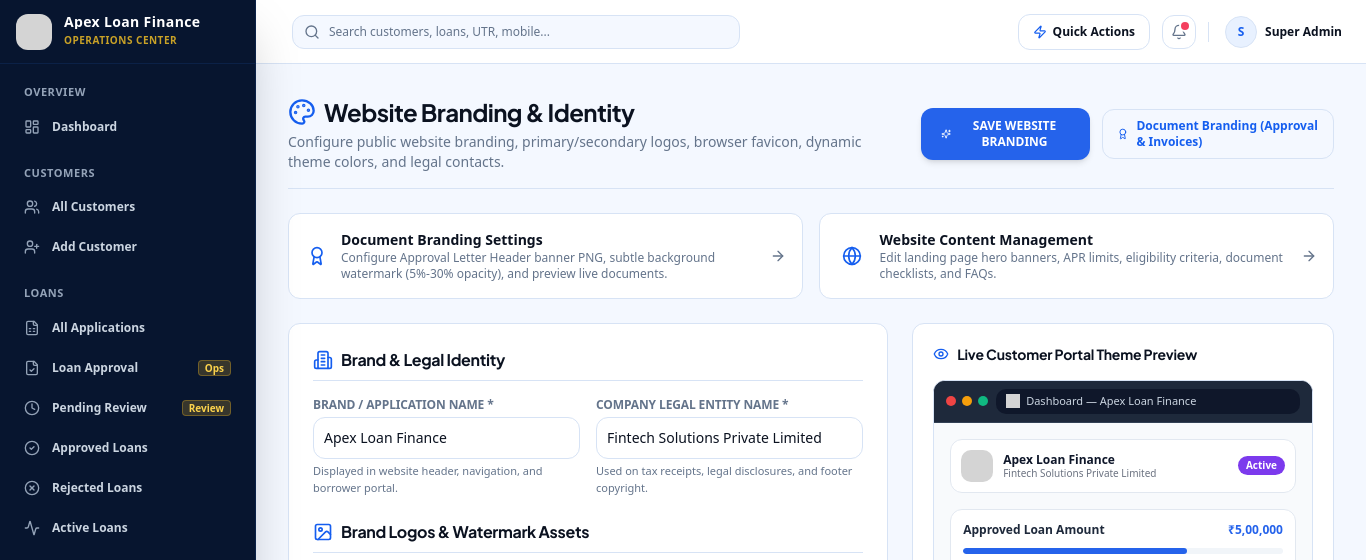
Test: Website Settings, Approval Letter & Branding E2E Integration Suite › TEST 4: Website Branding Page is streamlined and contains direct navigation links
This screenshot has width=1366, height=560.
Check: the heading "Website Branding & Identity" is shown, box [288, 97, 634, 127]
Check: the field showing "Apex Loan Finance" below "Brand / Application Name *" is shown, box [313, 417, 580, 459]
Note: Click SAVE WEBSITE BRANDING
Click the button "SAVE WEBSITE BRANDING" at {"x": 1005, "y": 134}, box [921, 108, 1090, 160]
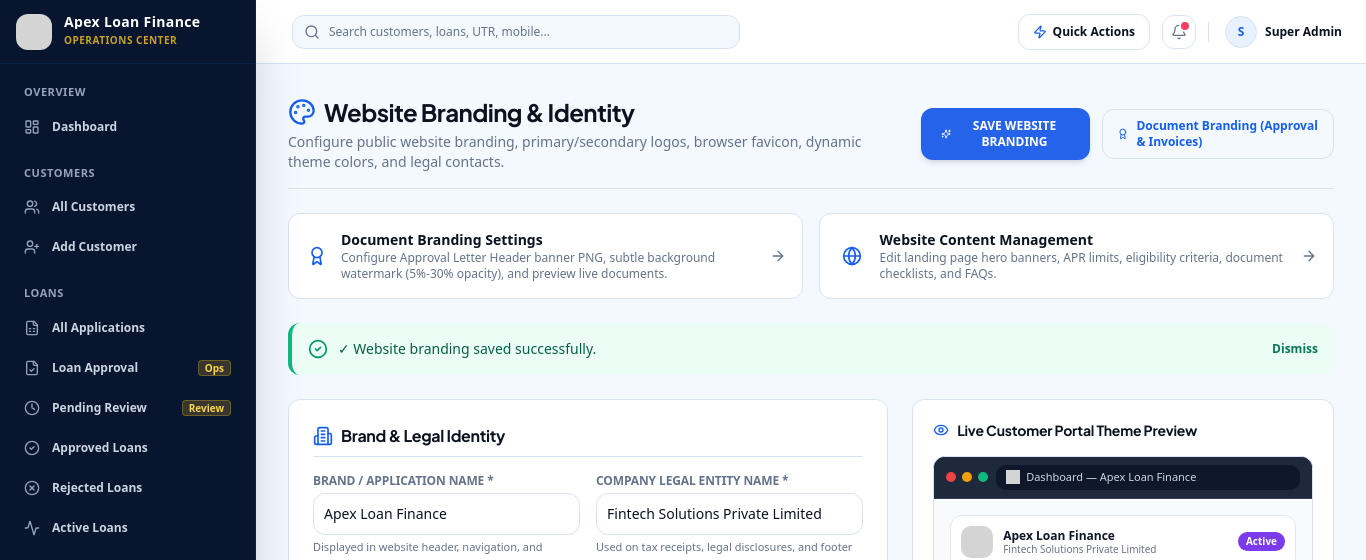
Check: the text "✓ Website branding saved successfully." is shown, box [338, 339, 596, 359]
